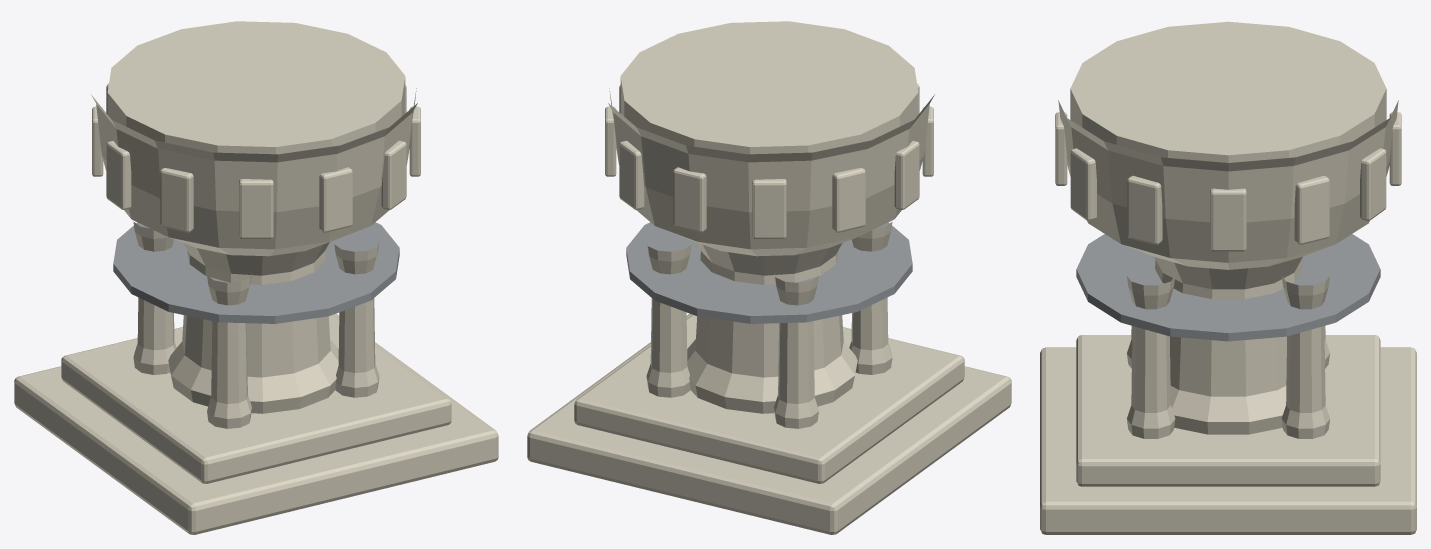
Rendered from monastery_stone_font.glb.
3 views of the same model, side by side, from view 1: azimuth 30°, elevation 25°; view 2: azimuth 150°, elevation 25°; view 3: azimuth 270°, elevation 25° (orthographic). The views are drawn at different scales.
Visible parts, largest first — view 1: world; view 2: world; view 3: world.
Boxes of the visible parts, left/top/right/bottom form: world: left=14, top=21, right=498, bottom=534; world: left=527, top=21, right=1011, bottom=534; world: left=1040, top=21, right=1416, bottom=534.
Bounding box in the file's own units: 1.85 × 2 × 1.85.
